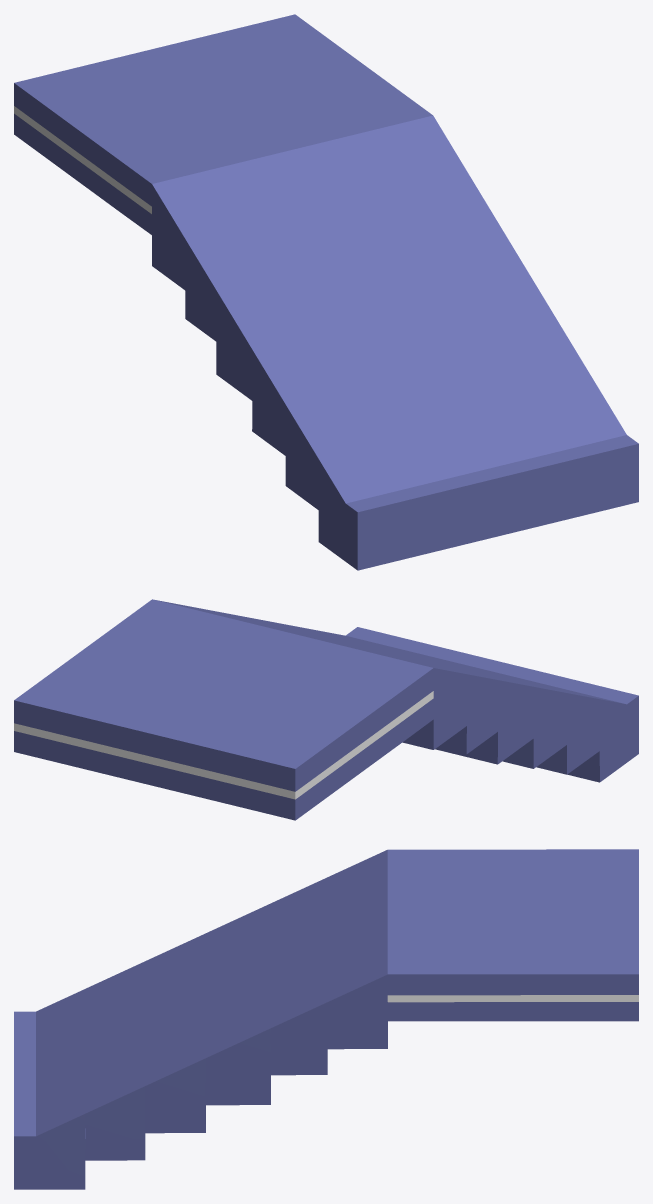
Rendered from sm_jumpStart_10.fbx.
The picture shows the model from 3 angles, top to bottom: view 1: azimuth 30°, elevation 25°; view 2: azimuth 150°, elevation 25°; view 3: azimuth 270°, elevation 25°; orthographic projection. The views are drawn at different scales.
Parts seen in each view (by area): view 1: sm_jumpStart_10; view 2: sm_jumpStart_10; view 3: sm_jumpStart_10.
Boxes of the visible parts, x1,y1,x2,y2 form: sm_jumpStart_10: (14,14,638,570); sm_jumpStart_10: (14,599,638,820); sm_jumpStart_10: (14,849,638,1189).
Size of the model in its own units: 604 by 485 by 1277.
